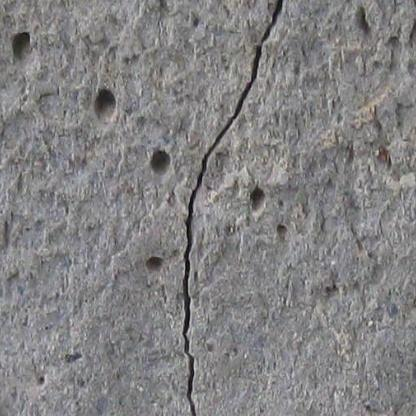Cracks: (181, 0, 289, 416)
